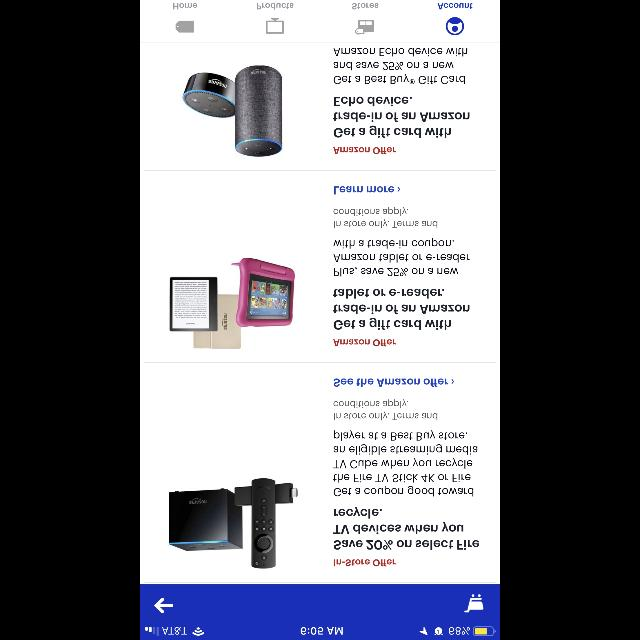icon: (464, 594, 484, 612), (446, 17, 464, 35), (154, 597, 173, 613), (176, 21, 194, 33), (452, 379, 454, 383), (398, 187, 400, 191)
image: (168, 478, 298, 568), (169, 258, 295, 348), (183, 66, 283, 156), (266, 18, 284, 34), (356, 20, 374, 34)
text: (334, 430, 478, 496), (333, 506, 479, 550), (334, 96, 470, 138), (334, 288, 470, 329), (334, 238, 470, 276), (333, 48, 467, 84), (334, 400, 438, 420), (334, 208, 438, 228), (334, 378, 448, 386), (334, 186, 394, 194), (334, 339, 396, 346), (334, 560, 396, 566), (334, 148, 396, 154), (256, 3, 294, 9), (438, 3, 472, 9), (352, 3, 378, 9), (174, 3, 198, 9)
uppertaskbar: (140, 626, 500, 640)
